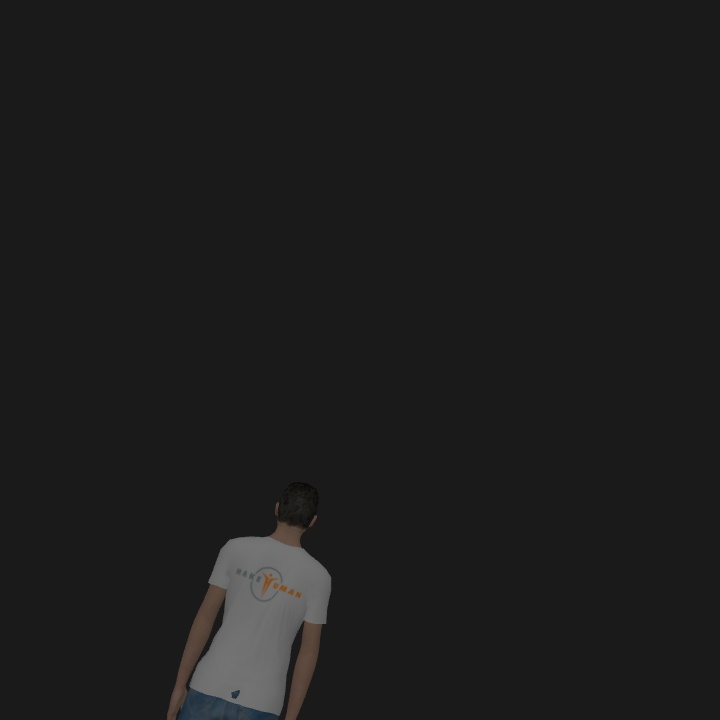victim: (165, 480, 332, 713)
